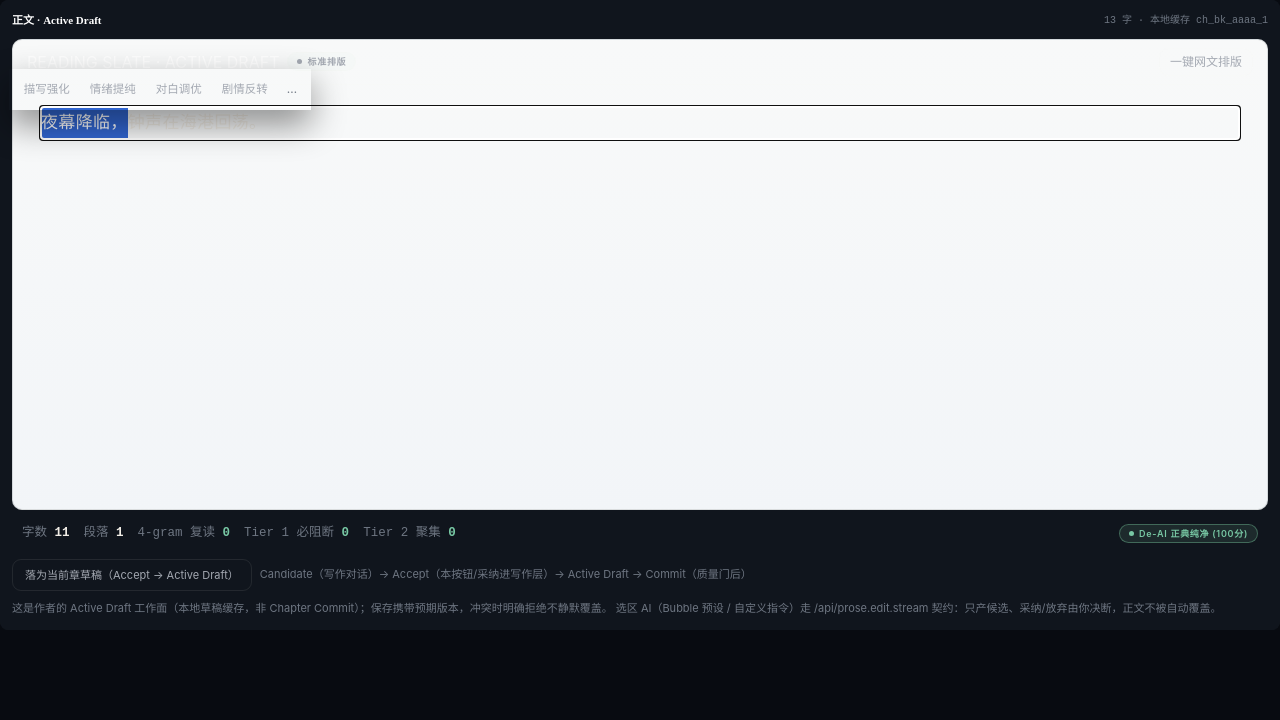
Test: 行内 AI 编辑（/api/prose.edit.stream 接线） › 选区不漂移守护：候选审阅期间正文变化 ⇒ Accept 被拒绝并提示，不写错位置
This screenshot has width=1280, height=720.
Click the button titled "构思冲突变数" at (245, 90), box left=213, top=78, right=277, bottom=101
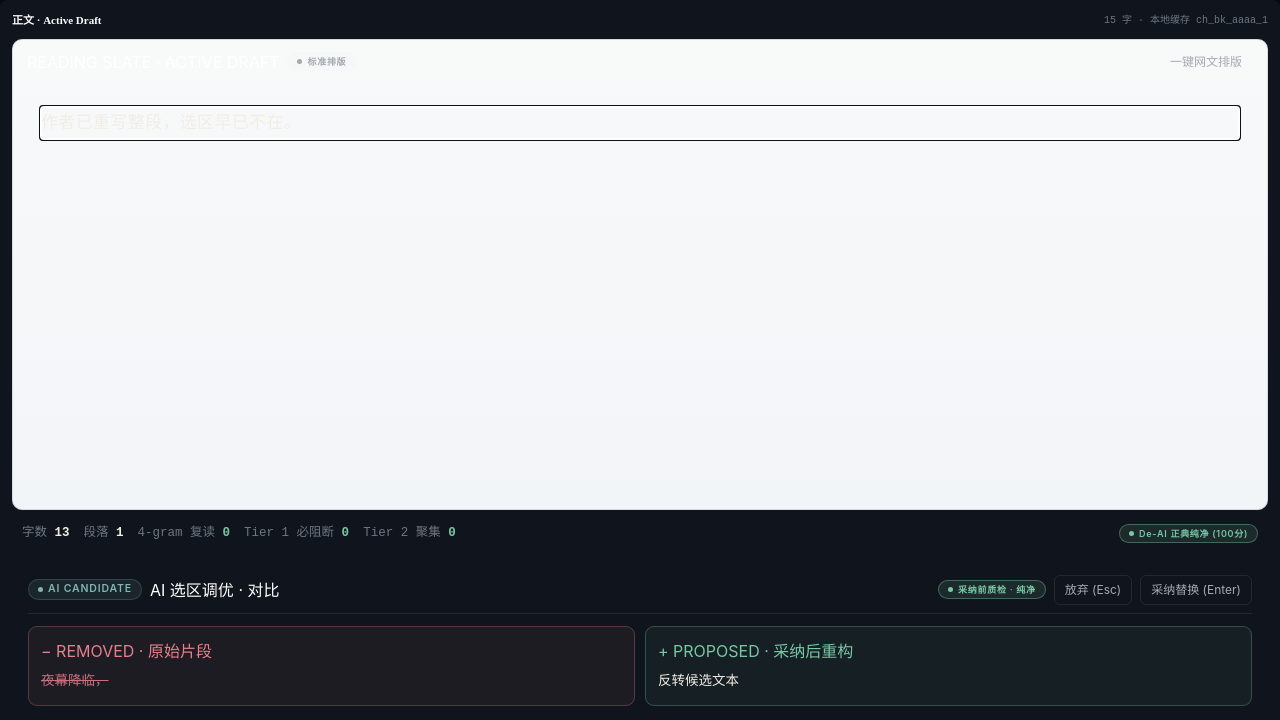
Click the button with test id "inline-diff-accept" at (1196, 590), box left=1140, top=574, right=1252, bottom=604
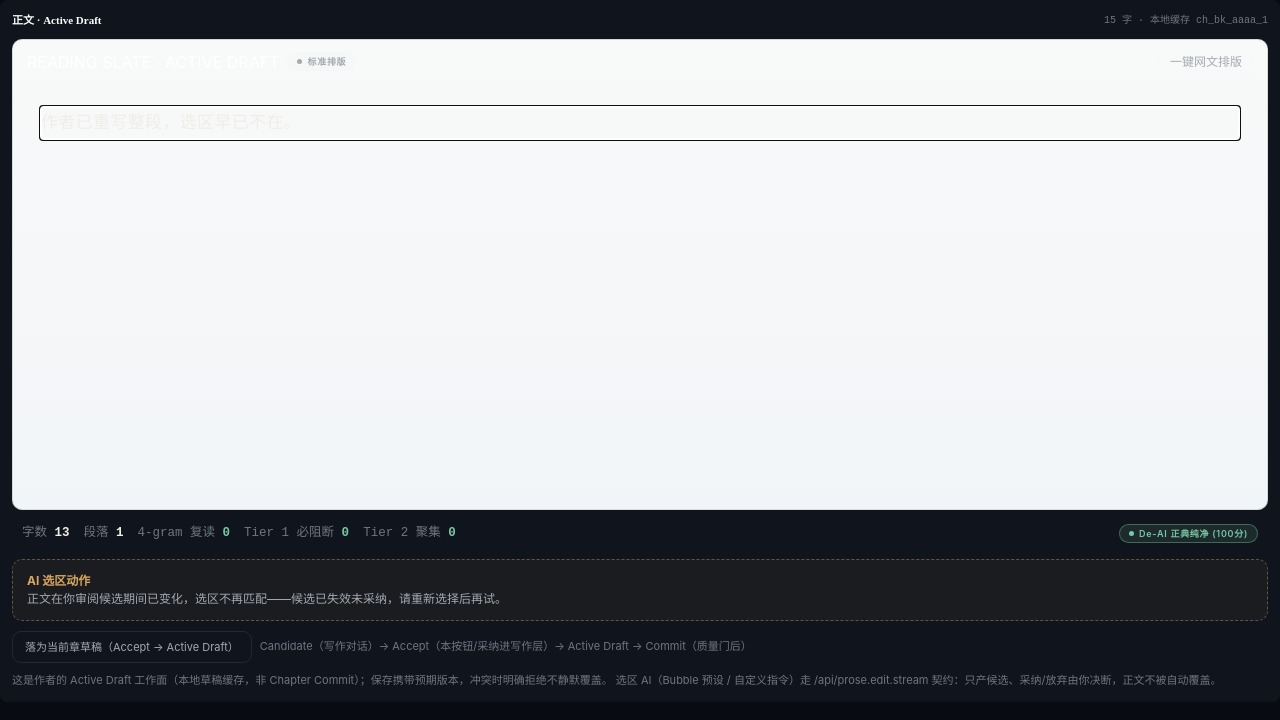
Result: the field shows "作者已重写整段" at left=41, top=112, right=301, bottom=132
Result: the message shows "选区不再匹配" at left=27, top=590, right=507, bottom=606
Result: the text "反转候选文本" is gone
